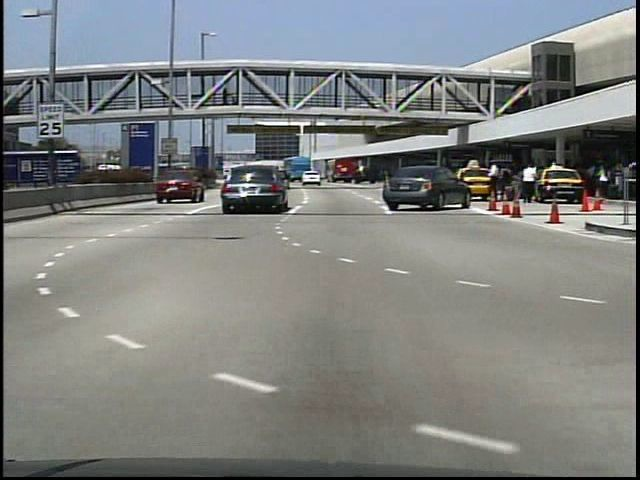person: (518, 159, 541, 204), (591, 163, 611, 202), (486, 162, 504, 204), (525, 161, 539, 203), (220, 88, 230, 110)
